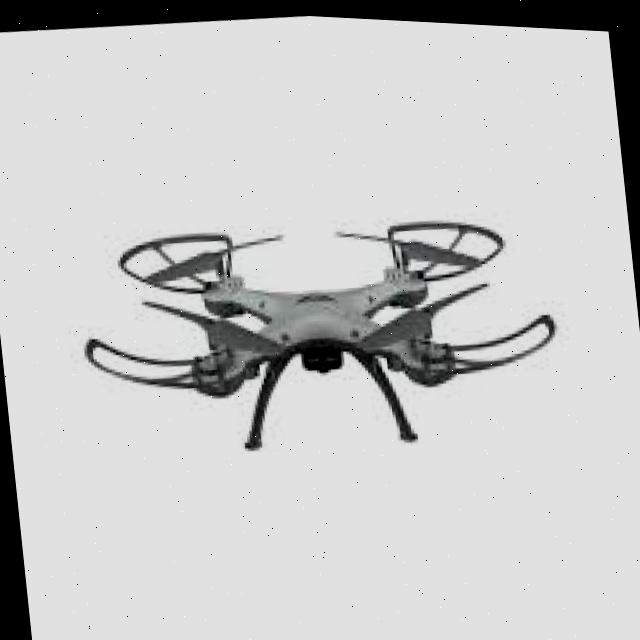drone: (59, 159, 586, 513)
